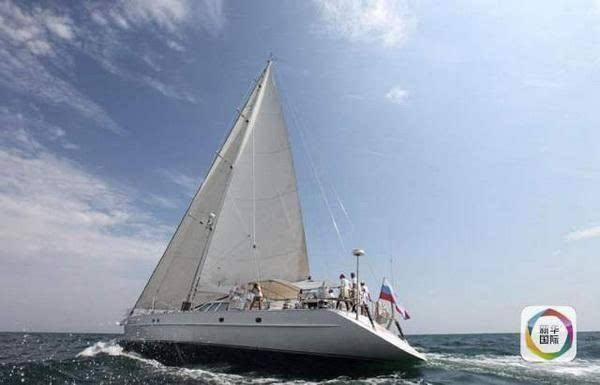fanchuan: (125, 53, 415, 353)
